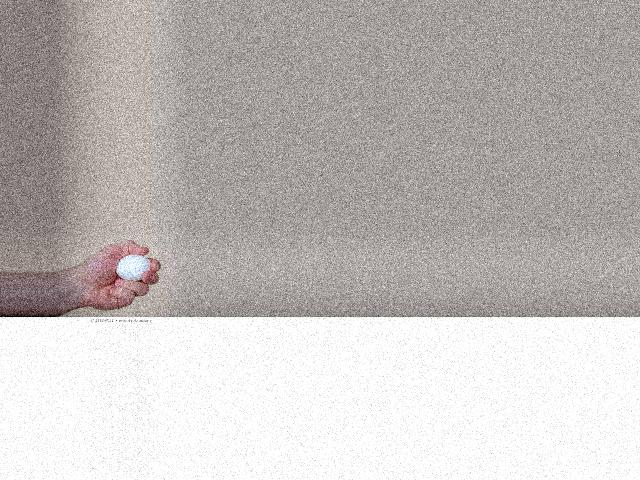egg: (115, 254, 150, 280)
